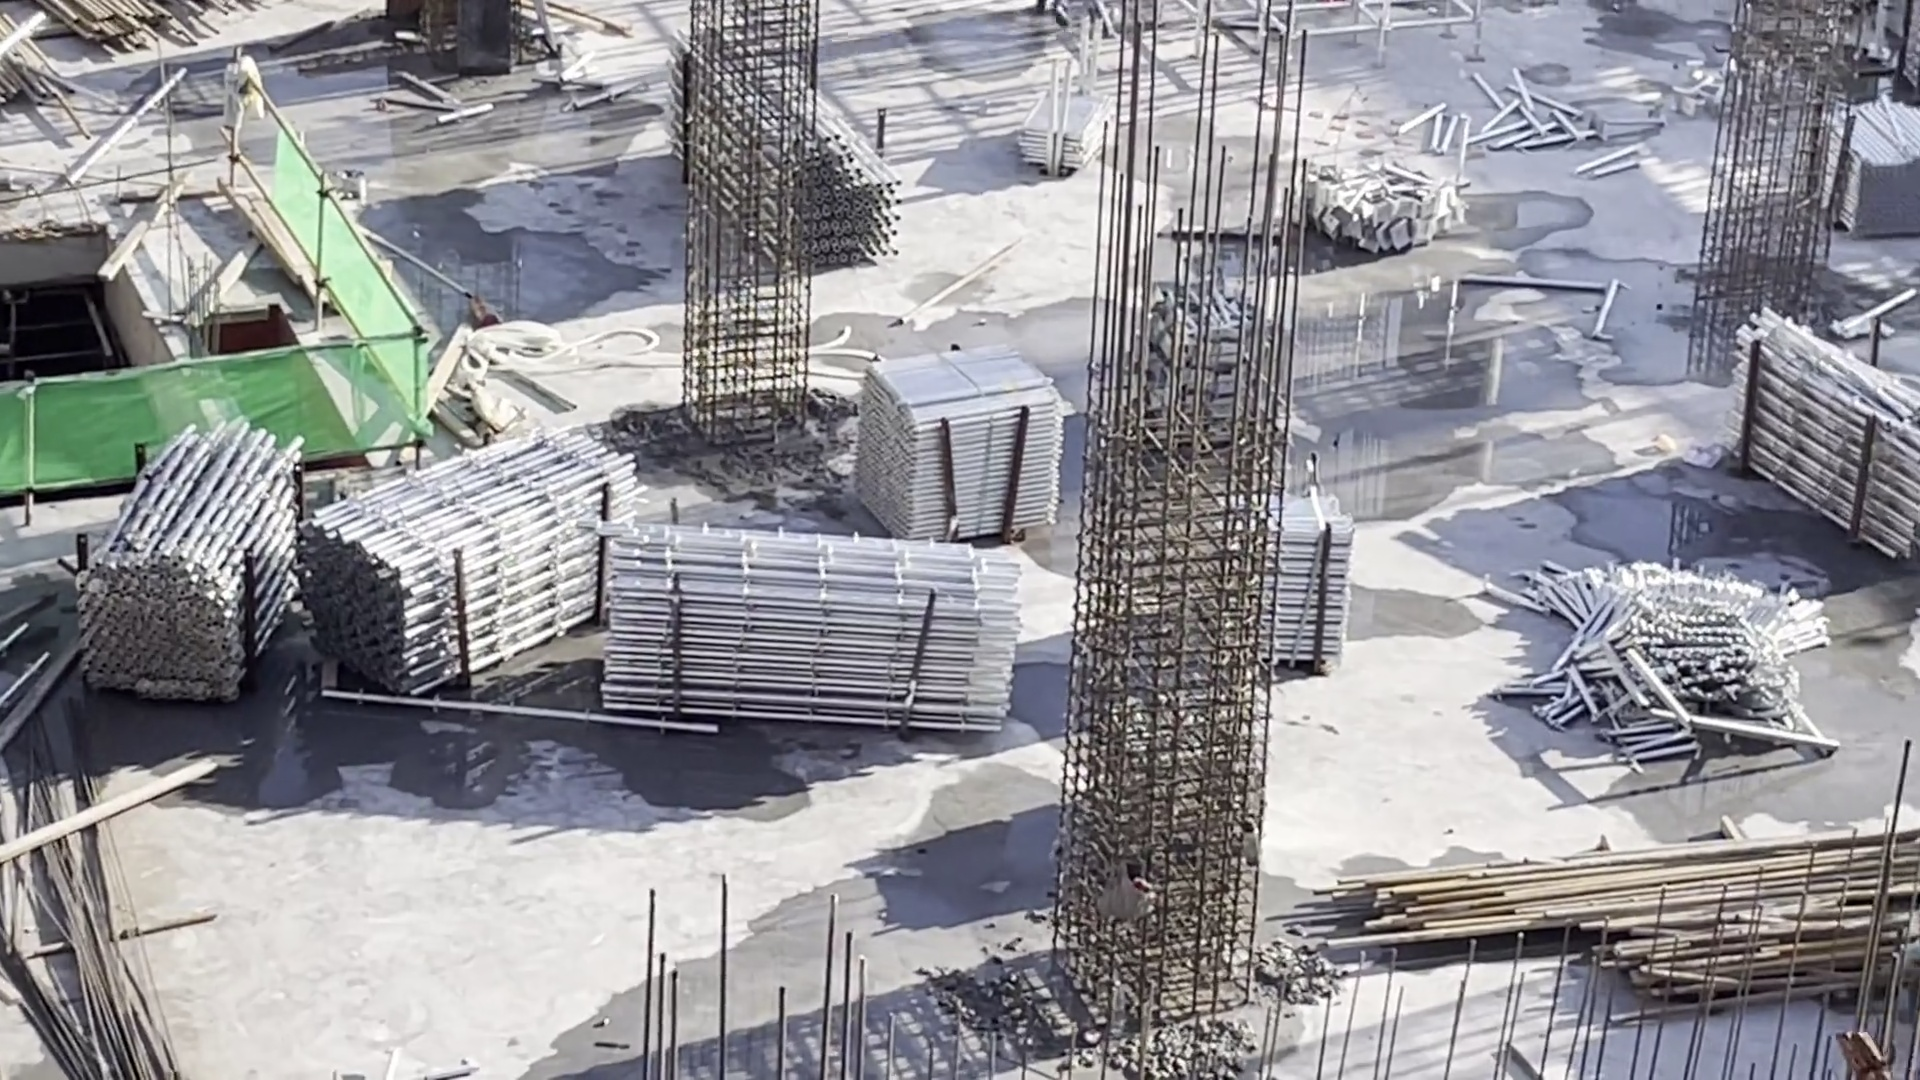rebar: (33, 796, 171, 1080)
scaffold: (608, 541, 1005, 728), (338, 447, 608, 676), (79, 451, 291, 683), (669, 61, 893, 272), (1540, 564, 1782, 760), (1745, 344, 1907, 564), (881, 376, 1060, 571), (1230, 504, 1344, 674), (1851, 88, 1920, 223), (1011, 92, 1097, 167)
